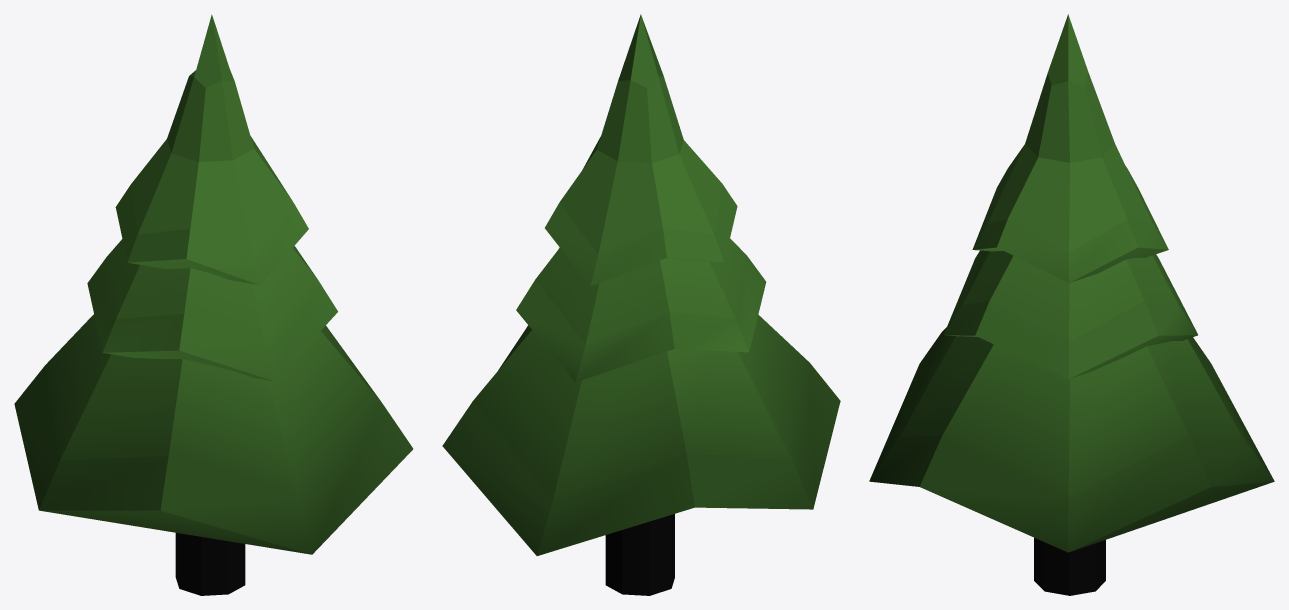
Rendered from Mesh_Sapin03.fbx.
3 renders of one model, left to right at view 1: azimuth 30°, elevation 25°; view 2: azimuth 150°, elevation 25°; view 3: azimuth 270°, elevation 25°, orthographic.
Visible parts, largest first — view 1: Mesh_Sapin05.001; view 2: Mesh_Sapin05.001; view 3: Mesh_Sapin05.001.
Boxes of the visible parts, left/top/right/bottom form: Mesh_Sapin05.001: left=14, top=14, right=413, bottom=595; Mesh_Sapin05.001: left=442, top=14, right=840, bottom=595; Mesh_Sapin05.001: left=869, top=14, right=1274, bottom=595.
Bounding box in the file's own units: 222 × 347 × 225.
